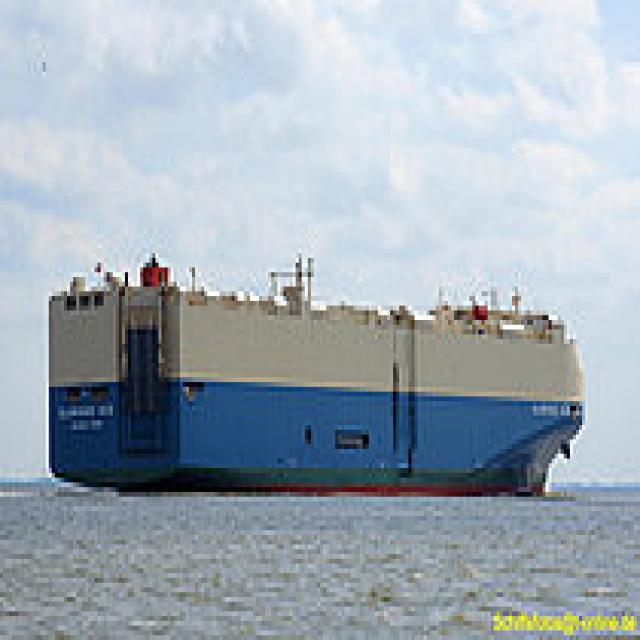Carrier: (40, 244, 588, 496)
